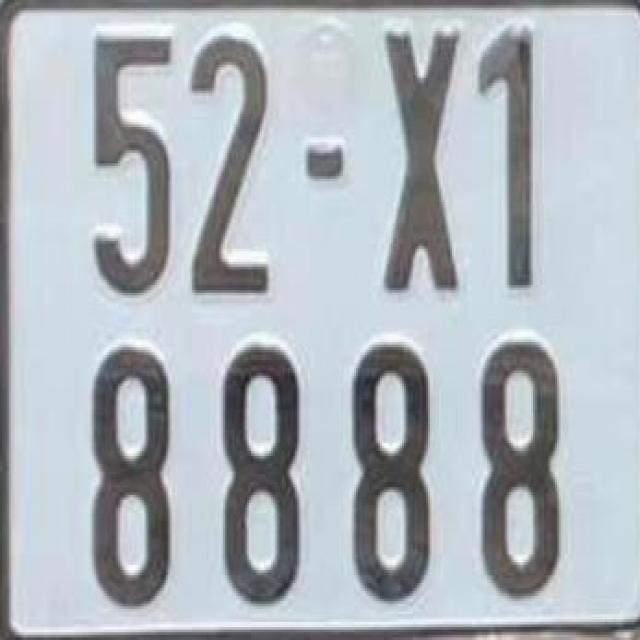1: (474, 18, 552, 293)
2: (184, 23, 278, 300)
5: (85, 21, 177, 298)
8: (474, 326, 568, 604), (345, 329, 439, 606), (216, 332, 308, 609), (87, 336, 179, 612)
X: (376, 21, 467, 300)
